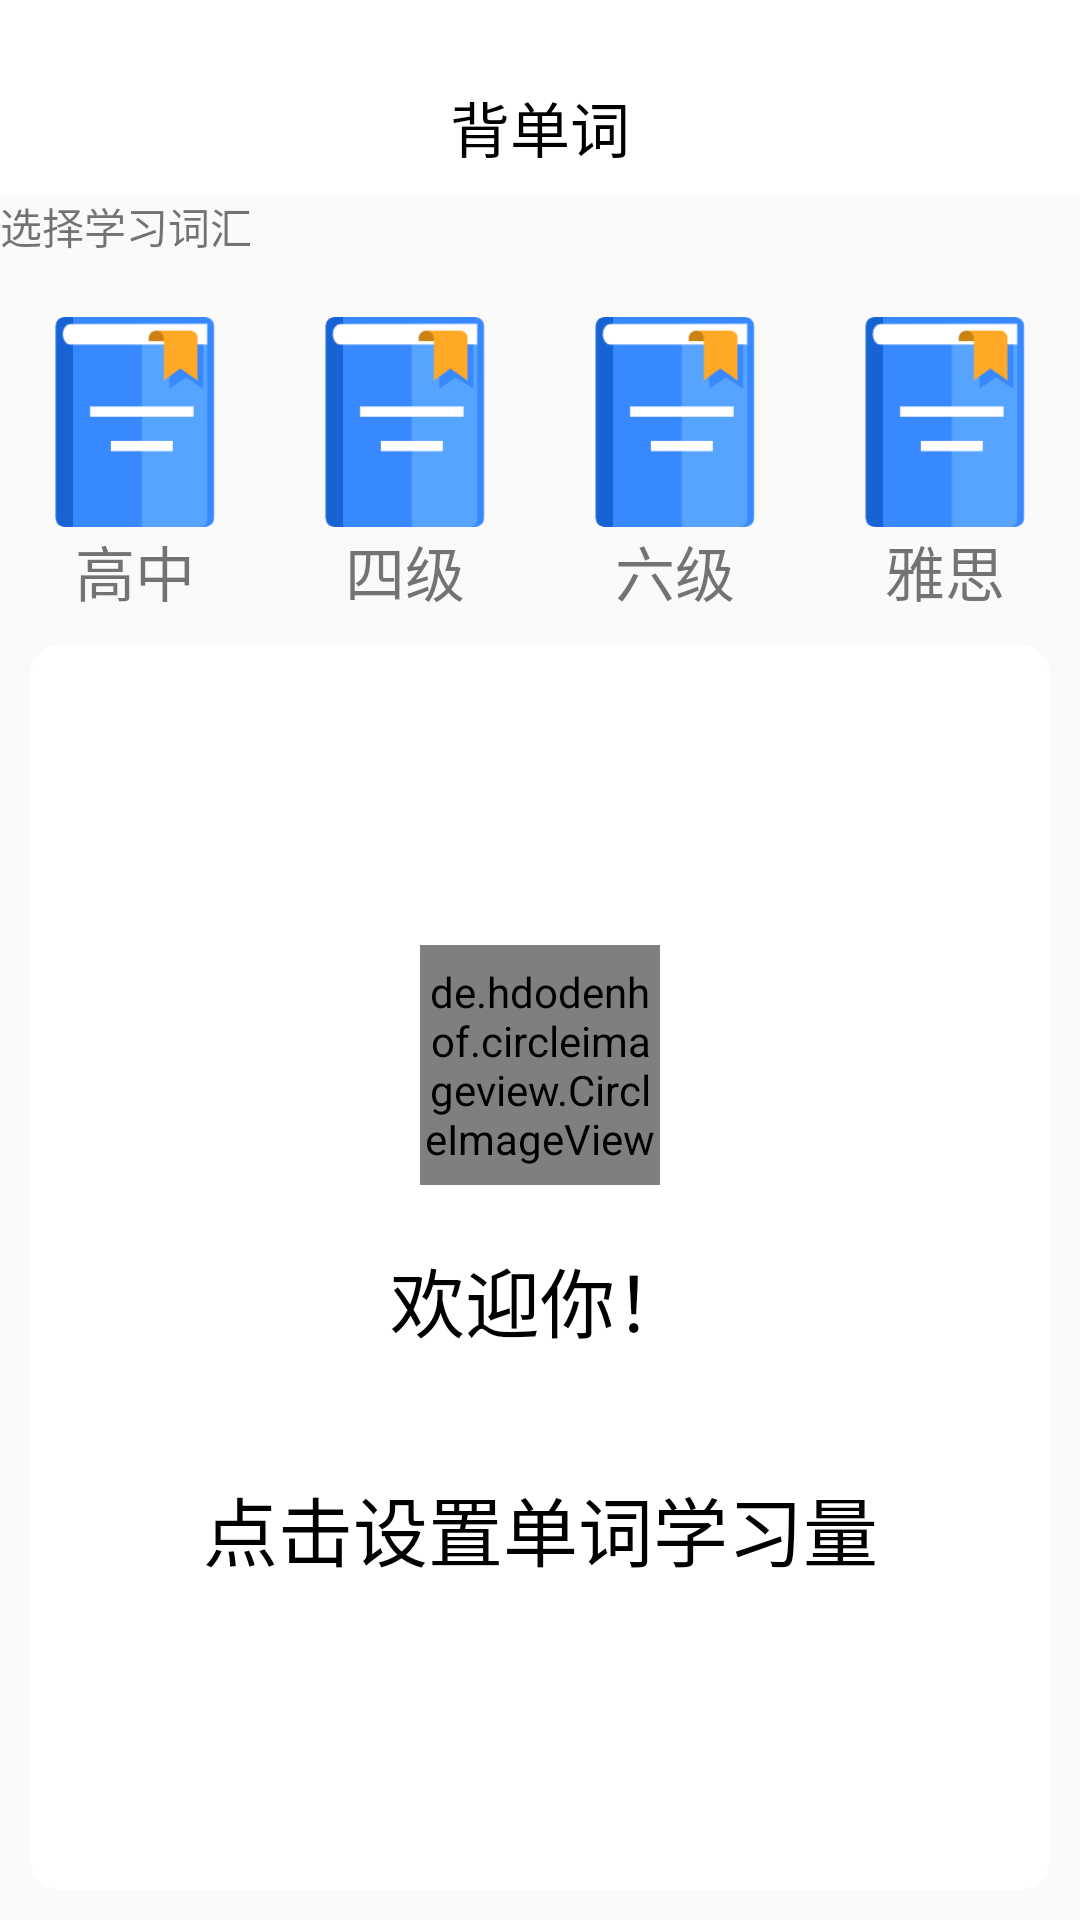

Point at icon controls on the screen. Image size 1080x1920, points as (x=x, y=y).
shuben: (x=135, y=422), (x=405, y=422), (x=675, y=422), (x=945, y=422)
